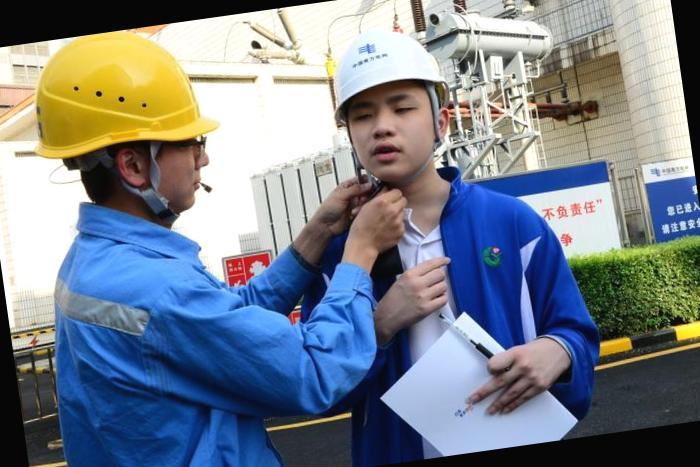helmet: (20, 22, 225, 167), (316, 21, 458, 136)
no_vest: (51, 210, 300, 467), (320, 188, 566, 426)
person: (296, 6, 613, 467), (4, 16, 296, 467)
